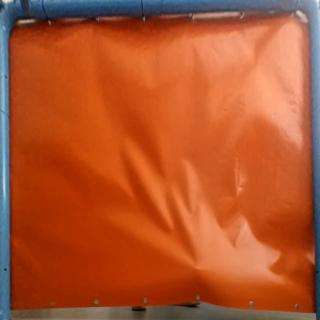Hit-hRxx: (187, 259, 209, 279)
